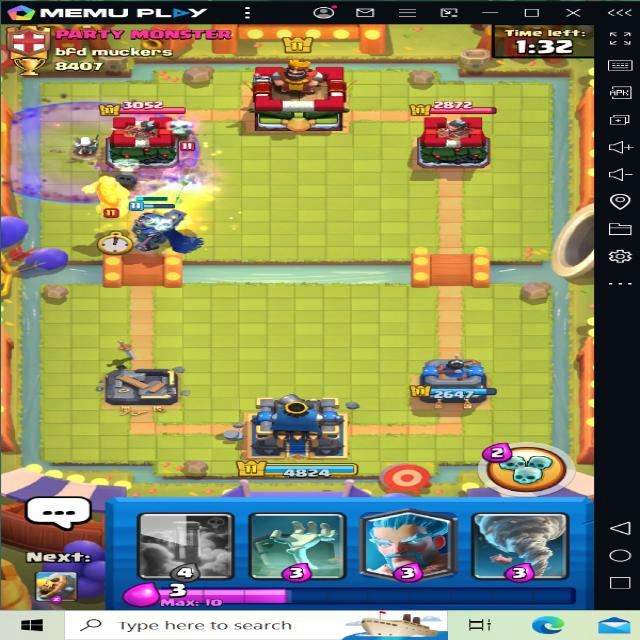archer-queen: (165, 144, 236, 200)
archer-queen-ability: (169, 141, 221, 197)
knight: (82, 177, 130, 239)
